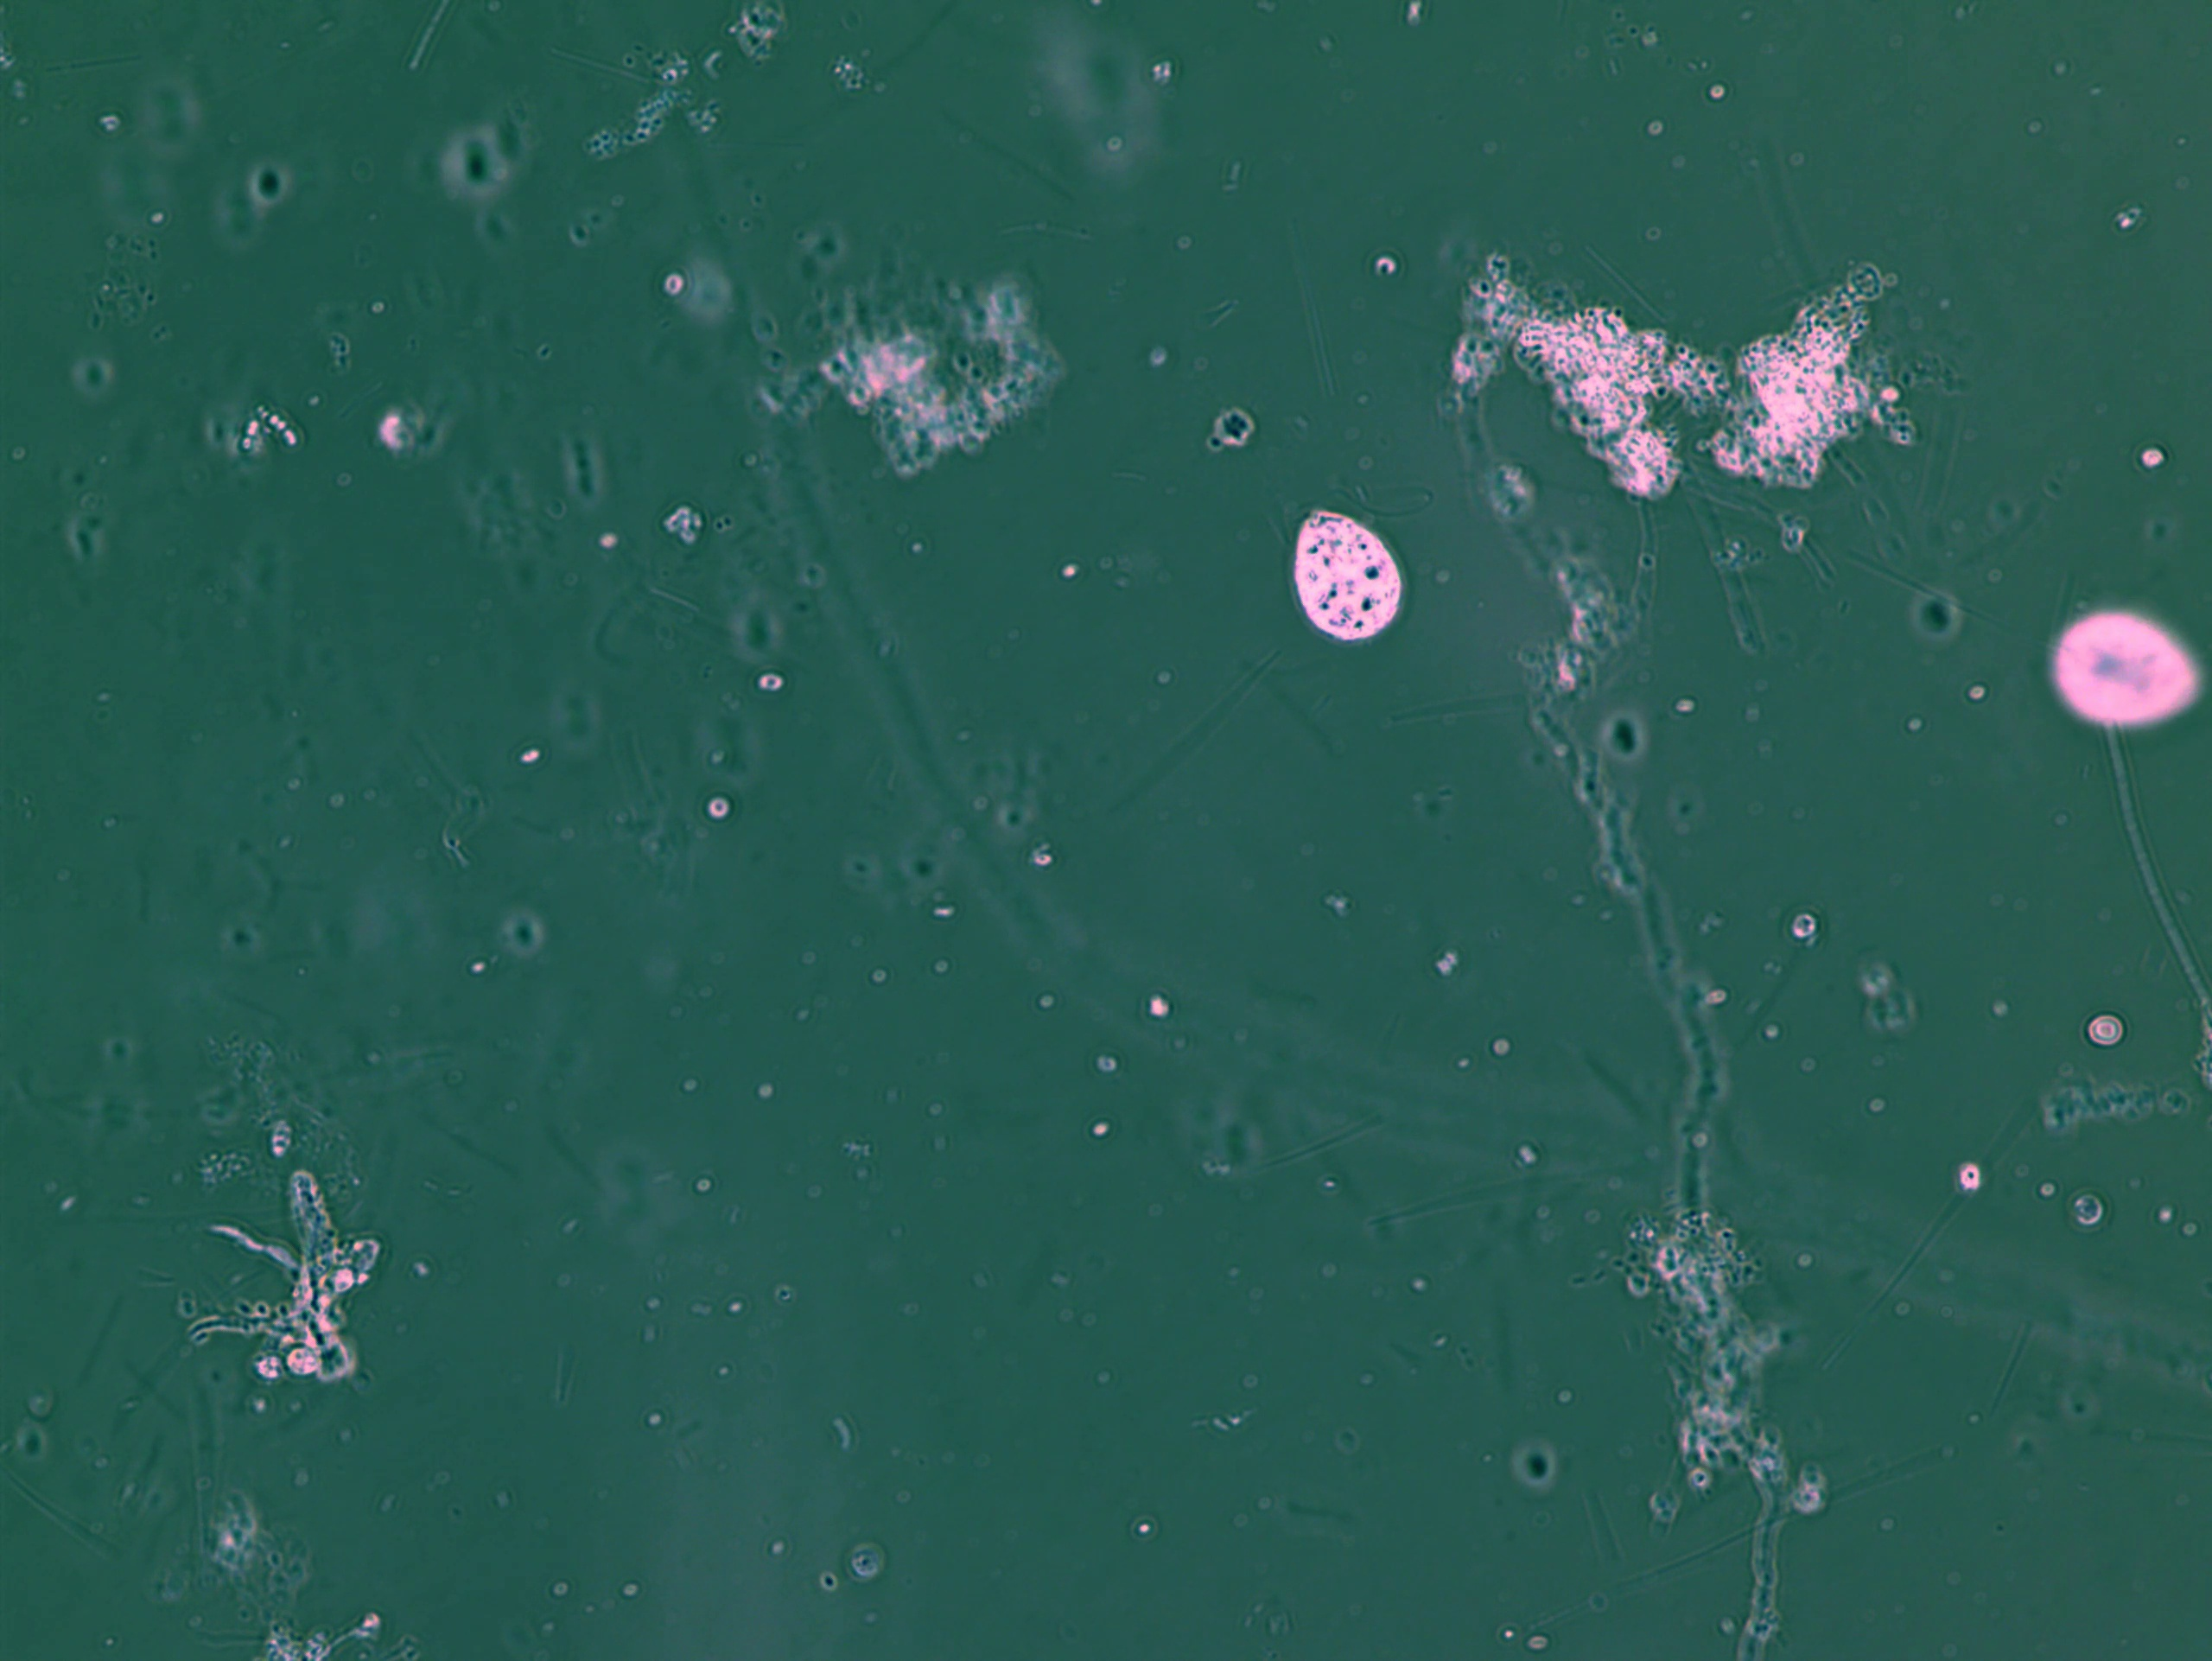depth:0: (1244, 482, 1439, 660)
